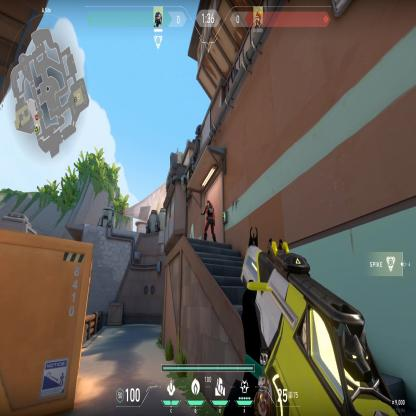enemy: (200, 198, 218, 244)
